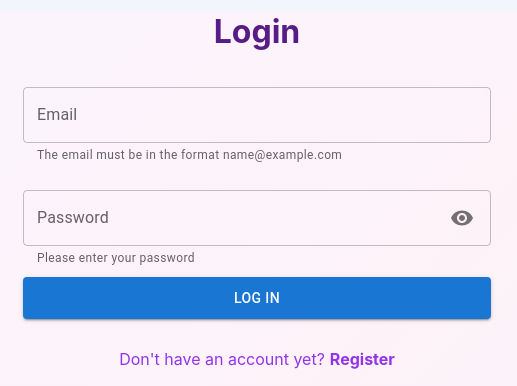
it: LoginForm › clears validation errors after successful validation
This screenshot has width=517, height=386.
Click the button "Log in": coordinates (257, 298) [23,277,491,319]
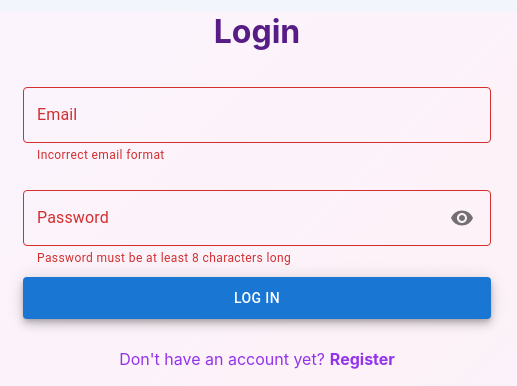
expect the text "Incorrect email format" is shown: met, box [37,148,165,162]
expect the text "Password must be at least 8 characters long" is shown: met, box [37,251,291,265]
In the field labelled "Email": coordinates (257, 115) [23,87,491,143], type "test@example.com"
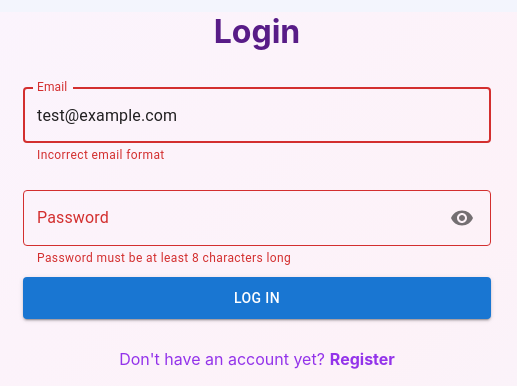
In the password field labelled "Password": coordinates (228, 218) [23,190,434,246], type "password123!"
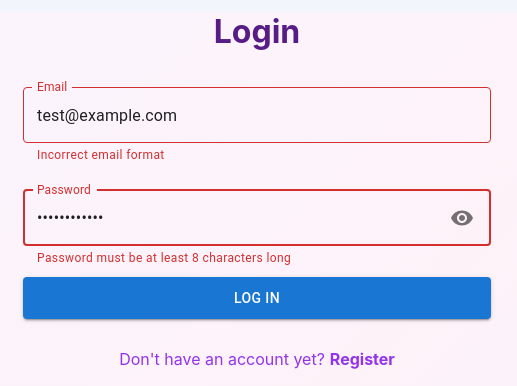
Click the button "Log in": coordinates (257, 298) [23,277,491,319]
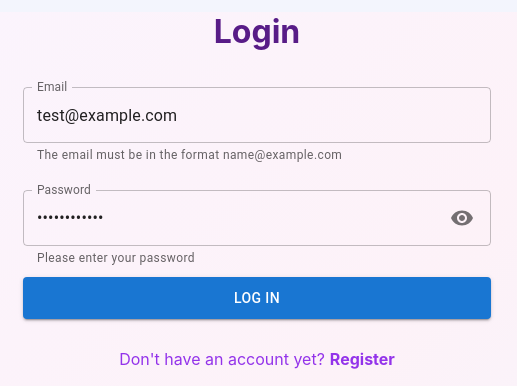
expect the text "Incorrect email format" is gone: met
expect the text "Password must be at least 8 characters long" is gone: met
